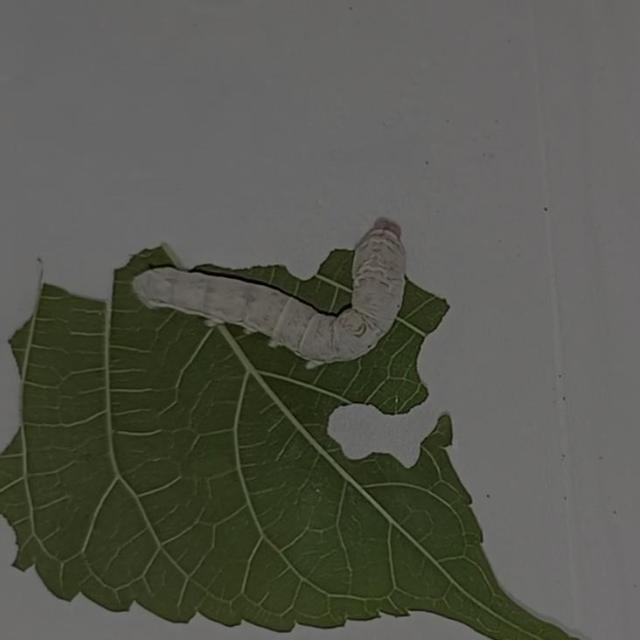Healthy: (108, 174, 461, 394)
